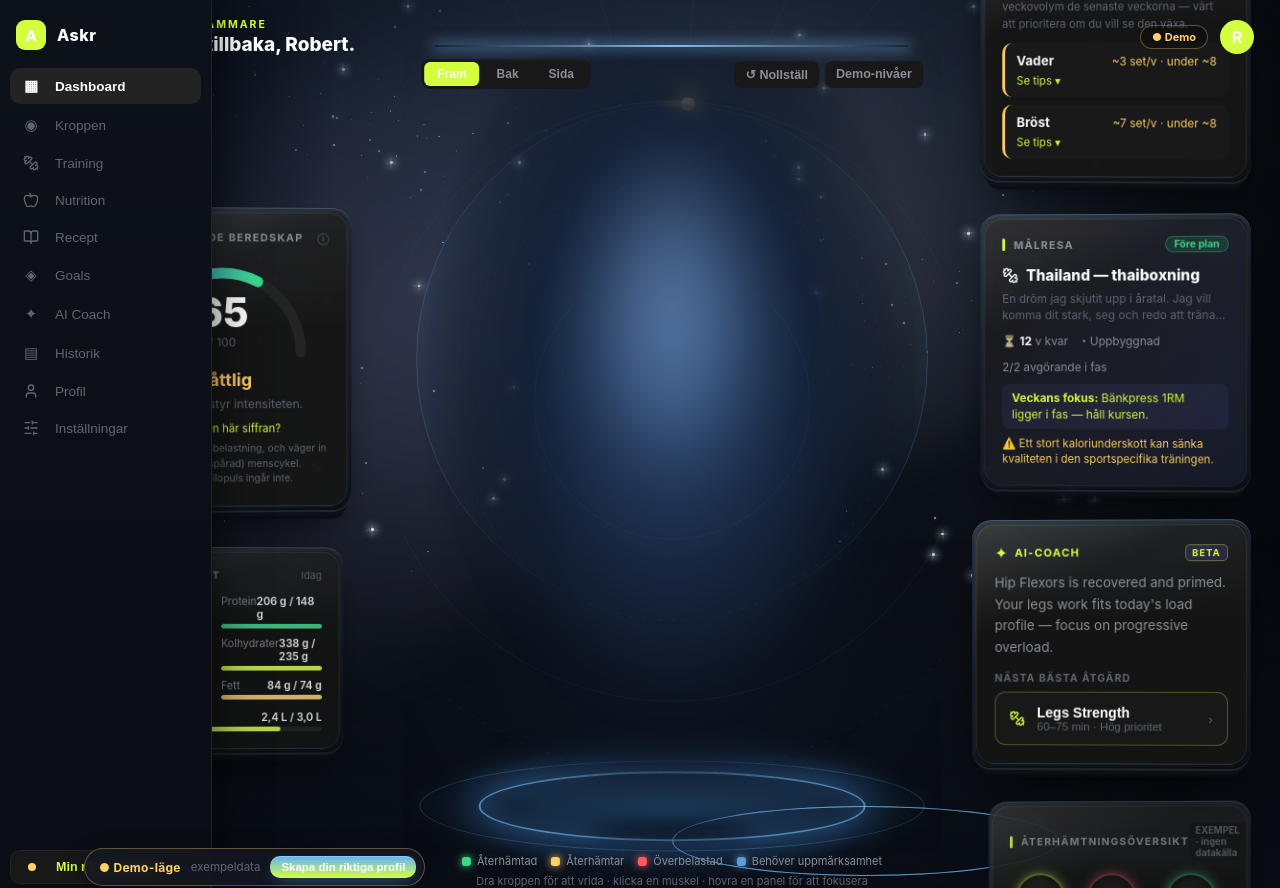
Test case: Träningsmotor — redigera pass via kalendern (integration) › demo desktop: Kalender → klick på pass → 'Redigera pass' öppnas, utan fel
The width and height of the screenshot is (1280, 888).
Click the text "Historik": (78, 353) [55, 346, 100, 360]
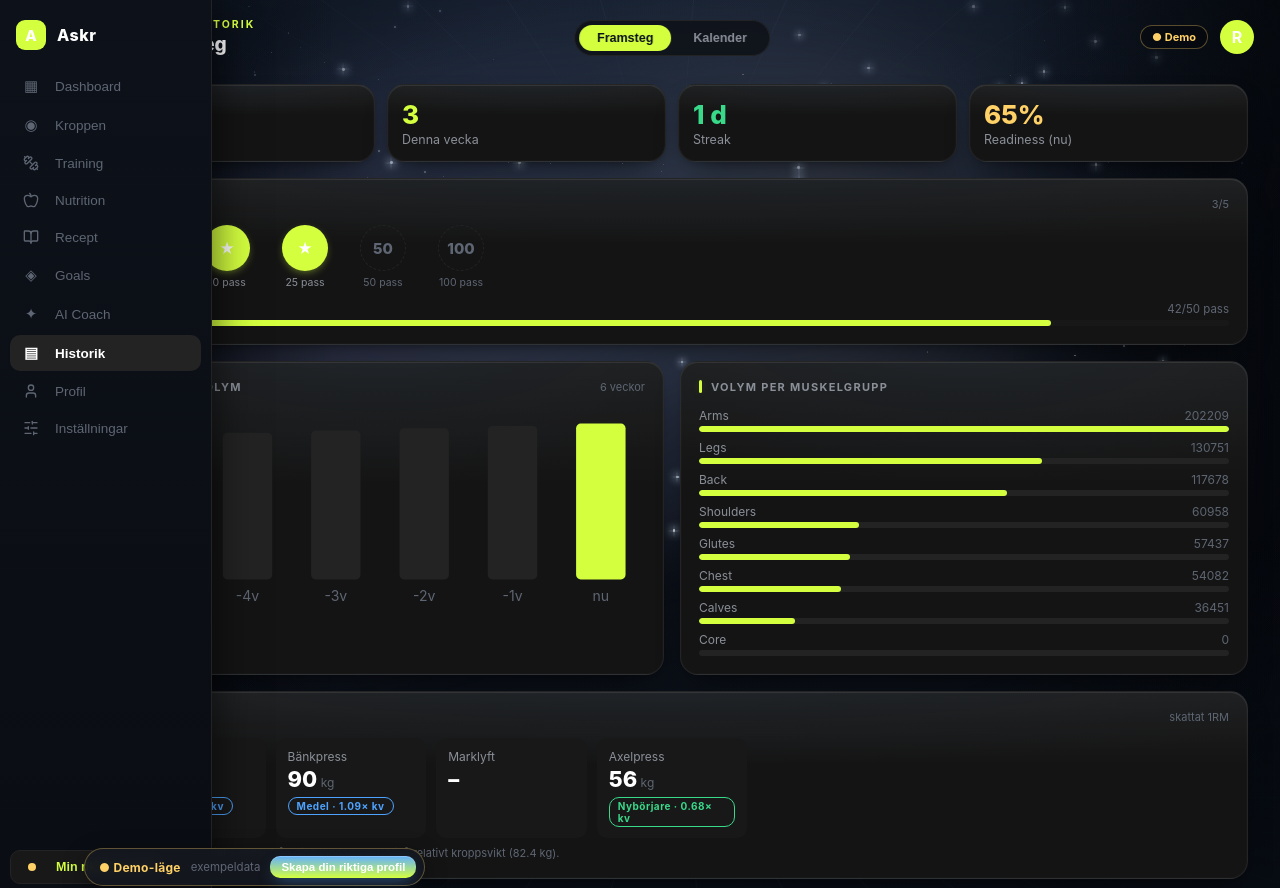
Click the button "Kalender": (720, 38) [675, 25, 765, 51]
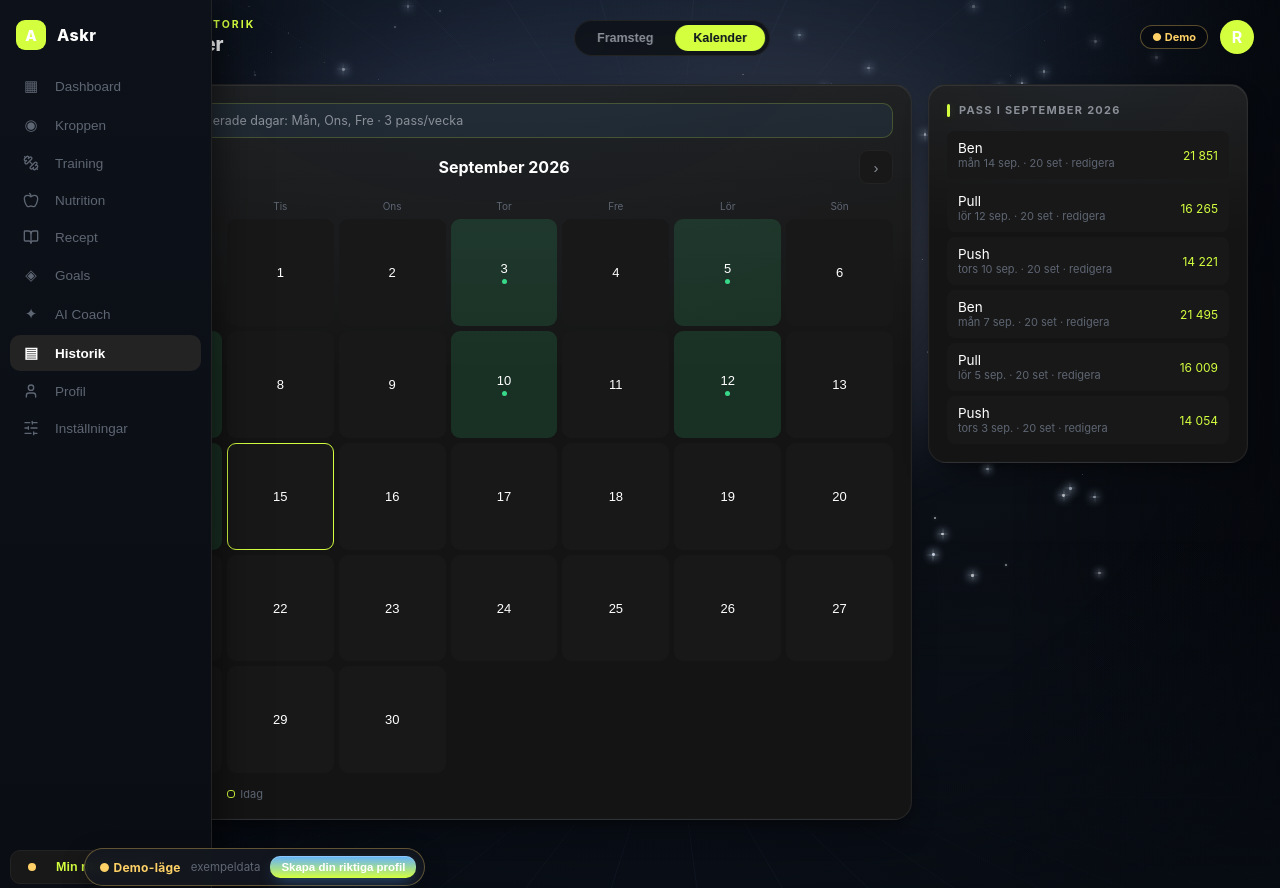
Click the text "tors 3 sep. · 20 set · redigera": (1033, 428) [958, 421, 1108, 435]
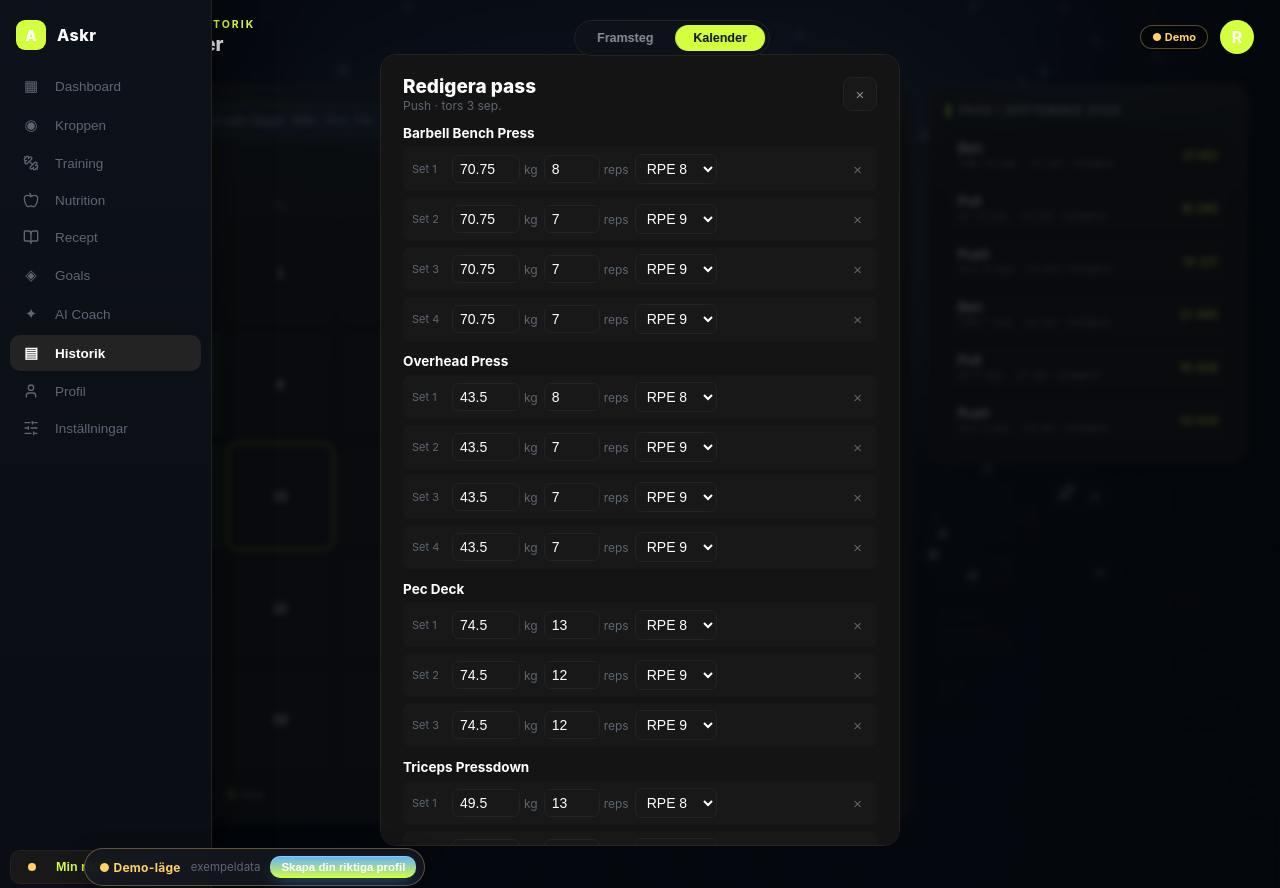
Check: the text "Redigera pass" is shown, box [403, 75, 536, 98]
